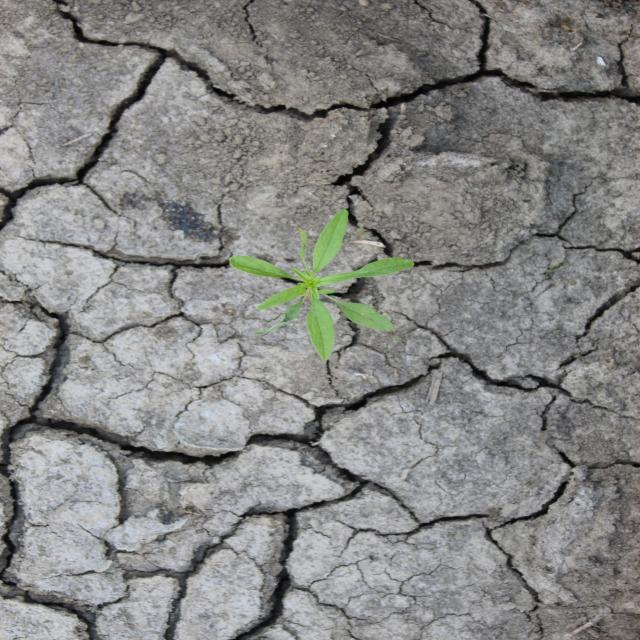Waterhemp: (227, 208, 416, 362)
